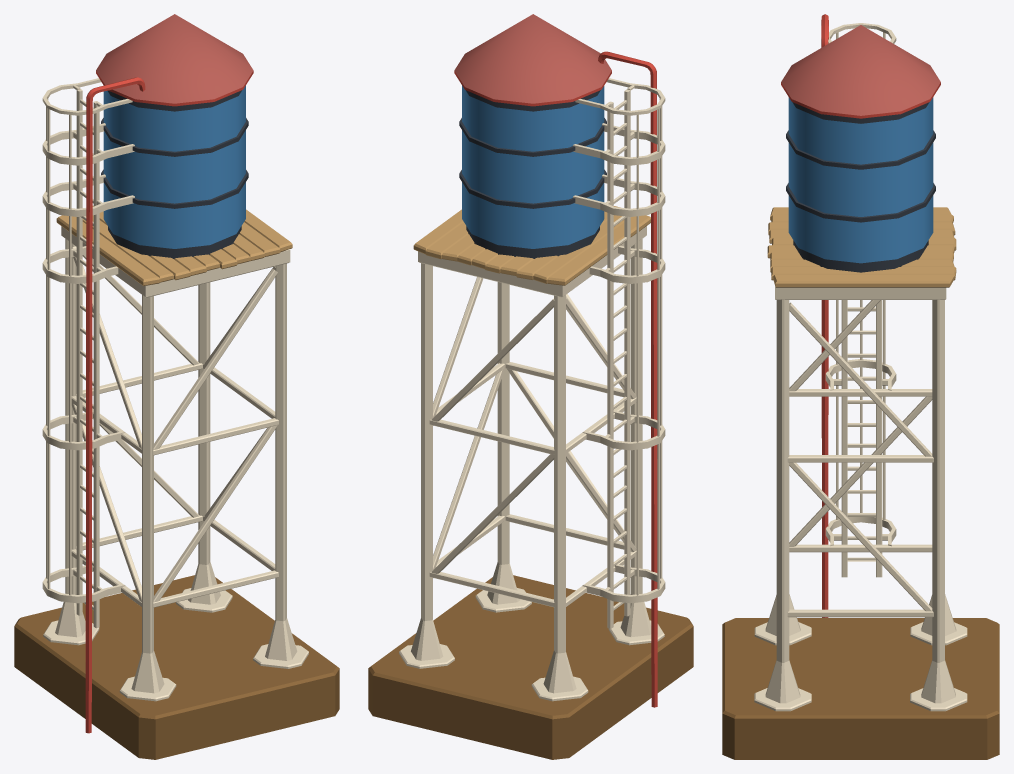
File: farmstractures_22.gltf
3 views of the same model, side by side, from view 1: azimuth 30°, elevation 25°; view 2: azimuth 150°, elevation 25°; view 3: azimuth 270°, elevation 25° (orthographic).
Parts seen in each view (by area): view 1: body, blades; view 2: body, blades; view 3: body, blades.
Part boxes in pixels (x1,y1,x2,y2): body: (14,14,339,759); blades: (46,90,99,628); body: (368,14,693,759); blades: (607,90,662,628); body: (722,14,999,759); blades: (836,32,885,577).
Bounding box in the file's own units: 2.89 × 8.16 × 2.98.
Materials: 1 (1 with a texture image).
